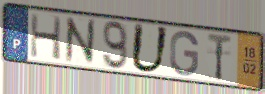9: (101, 19, 130, 71)
G: (168, 30, 201, 78)
H: (29, 12, 64, 62)
N: (64, 15, 97, 65)
T: (206, 31, 233, 82)
U: (129, 21, 171, 75)
